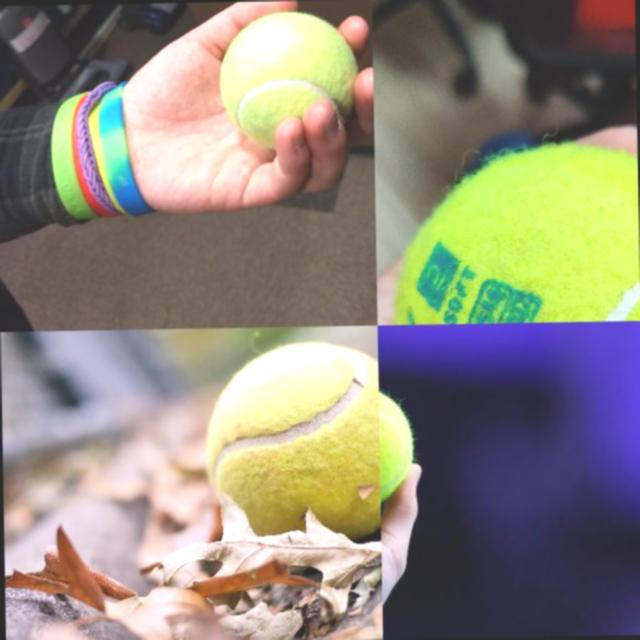tennis-ball: (391, 146, 639, 324), (203, 339, 380, 545), (218, 9, 359, 152), (378, 382, 414, 510)
